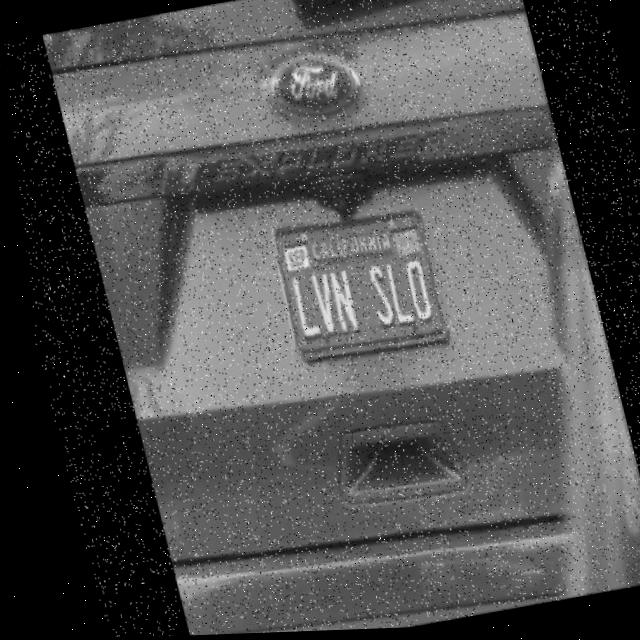LicensePlate: (264, 205, 446, 375)
